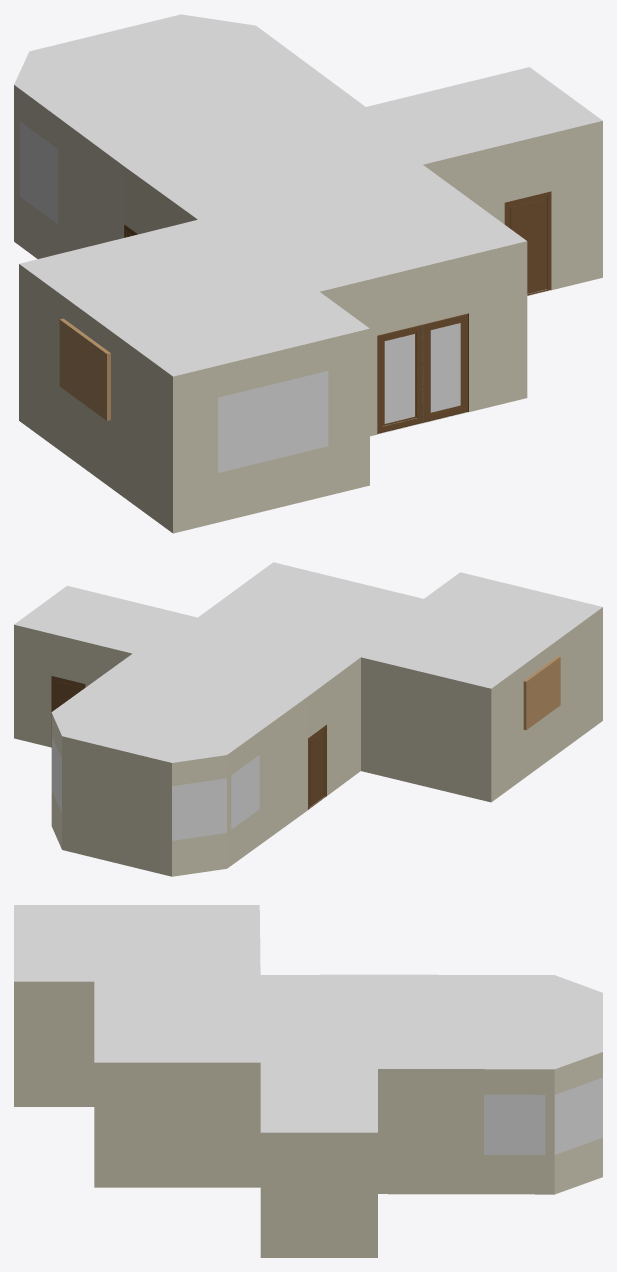
The model's file is HousePlan_V8.fbx.
3 renders of one model, top to bottom at view 1: azimuth 30°, elevation 25°; view 2: azimuth 150°, elevation 25°; view 3: azimuth 270°, elevation 25°, orthographic. The views are drawn at different scales.
Parts seen in each view (by area): view 1: HouseBase, Windows, FrontDoorWindows, Frame4; view 2: HouseBase, Windows, Frame4; view 3: HouseBase, Windows.
Boxes of the visible parts, left/top/right/bottom form: HouseBase: left=14, top=14, right=602, bottom=533; Windows: left=20, top=121, right=328, bottom=472; FrontDoorWindows: left=384, top=323, right=460, bottom=423; Frame4: left=59, top=318, right=110, bottom=420; HouseBase: left=14, top=562, right=602, bottom=876; Windows: left=51, top=736, right=259, bottom=840; Frame4: left=523, top=656, right=560, bottom=730; HouseBase: left=14, top=905, right=602, bottom=1257; Windows: left=484, top=1077, right=602, bottom=1154.
Size of the model in its own units: 23507 by 6053 by 25543.
